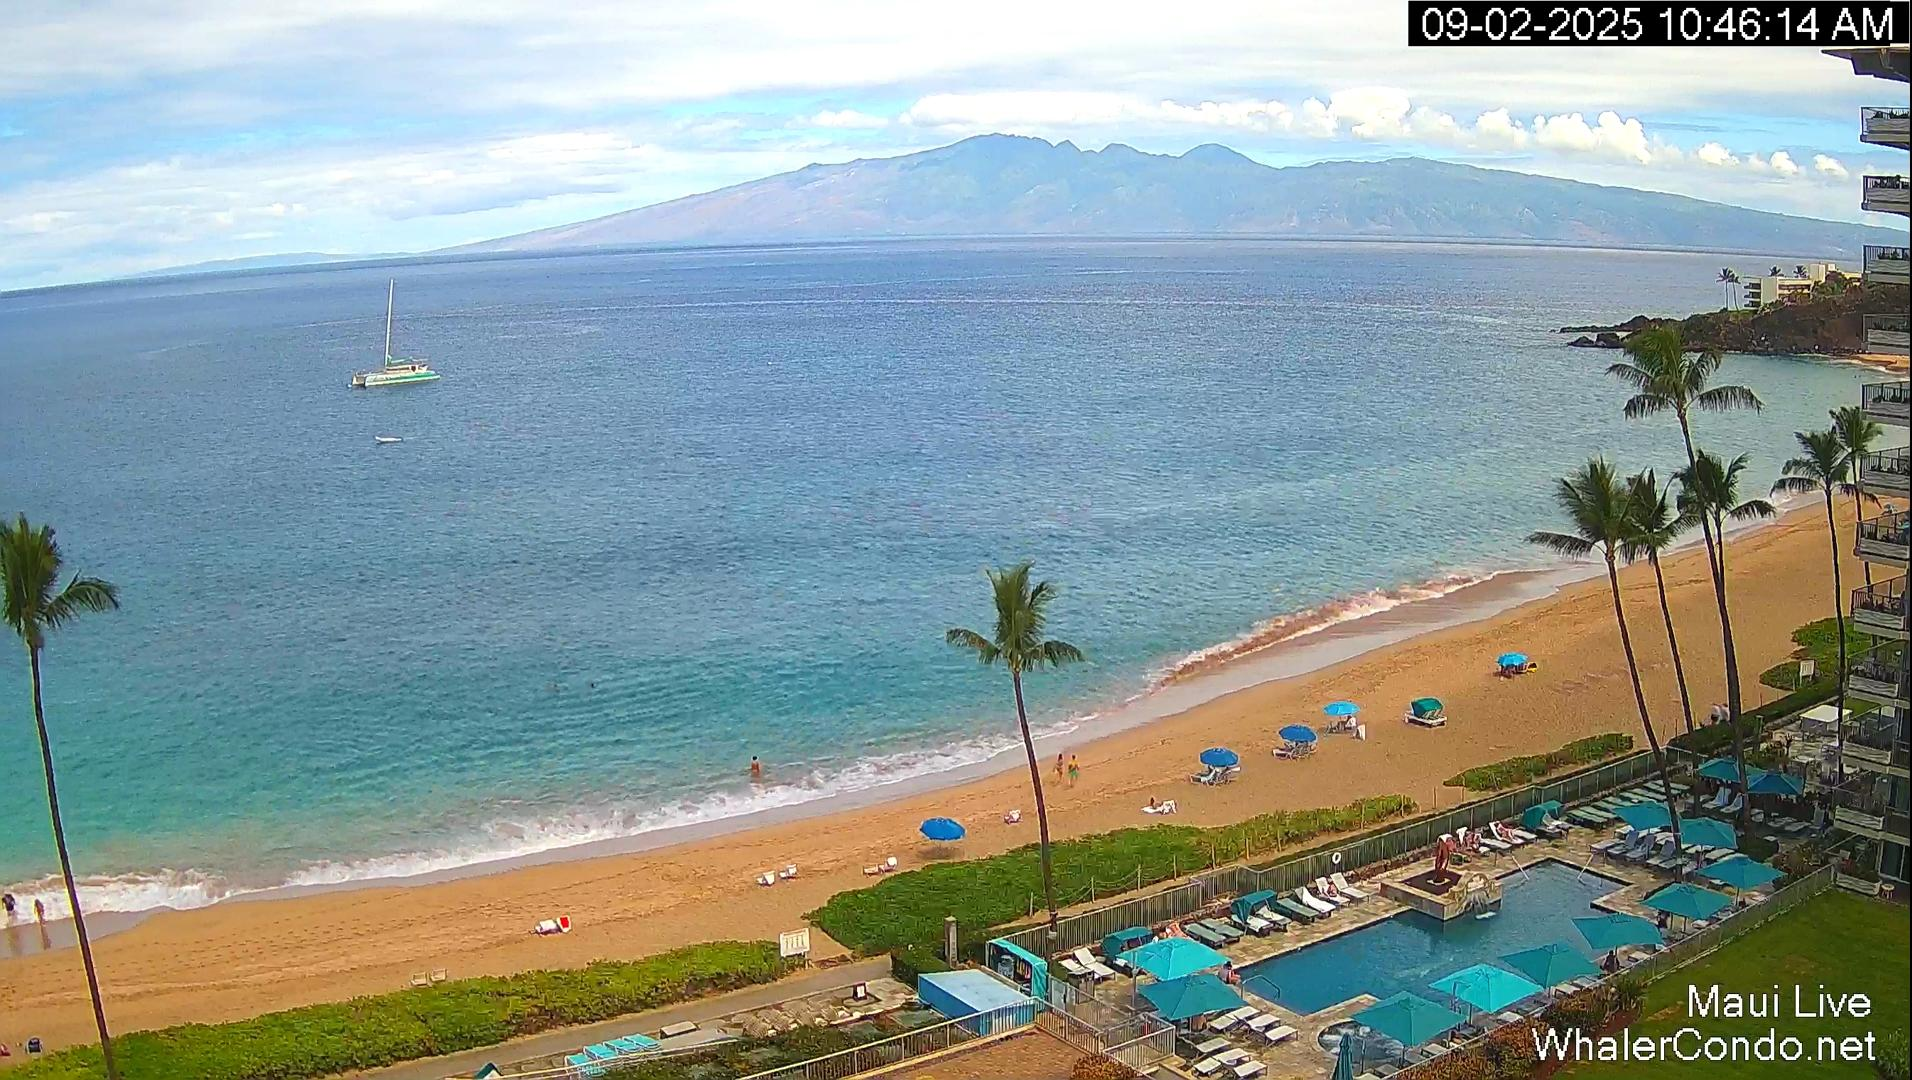boat: (350, 278, 440, 388), (374, 433, 403, 444)
person: (2, 894, 18, 923), (1067, 755, 1080, 788), (1602, 950, 1620, 973), (1219, 962, 1235, 984), (33, 899, 46, 925), (1054, 754, 1064, 786), (1498, 823, 1514, 843), (1448, 837, 1463, 857), (1336, 715, 1353, 732), (1048, 911, 1058, 939), (750, 756, 761, 776), (1711, 703, 1720, 727), (1721, 704, 1730, 728), (1464, 830, 1473, 854), (1325, 880, 1336, 898), (1657, 910, 1669, 926), (1149, 794, 1162, 808), (551, 681, 559, 692), (589, 679, 596, 690)
